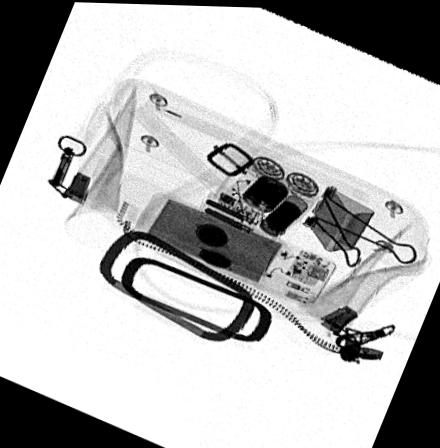Powerbank: (129, 191, 336, 302)
